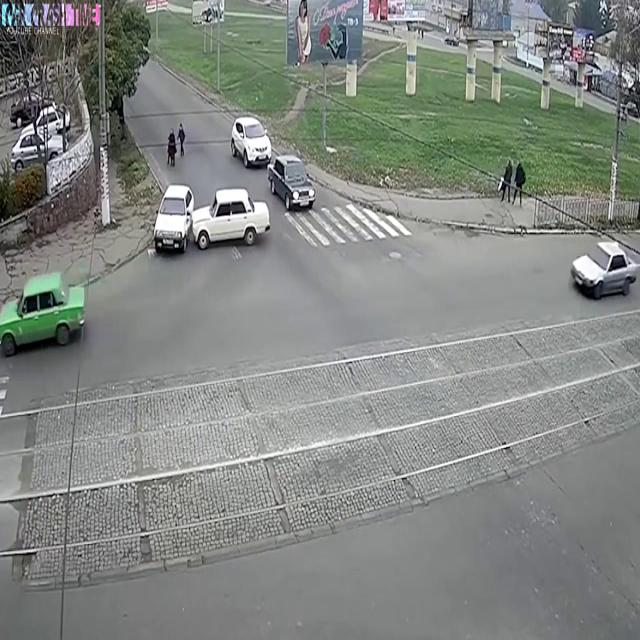accident: (152, 177, 272, 263)
non_accident: (228, 109, 320, 219)
